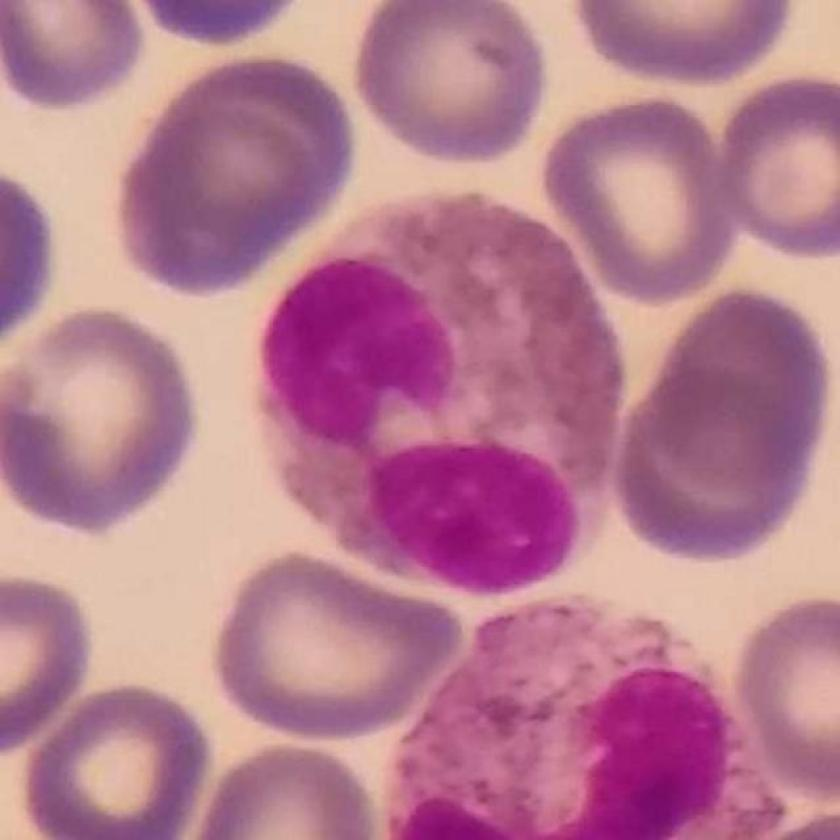eosinophil: (257, 187, 634, 601), (383, 594, 788, 840)
